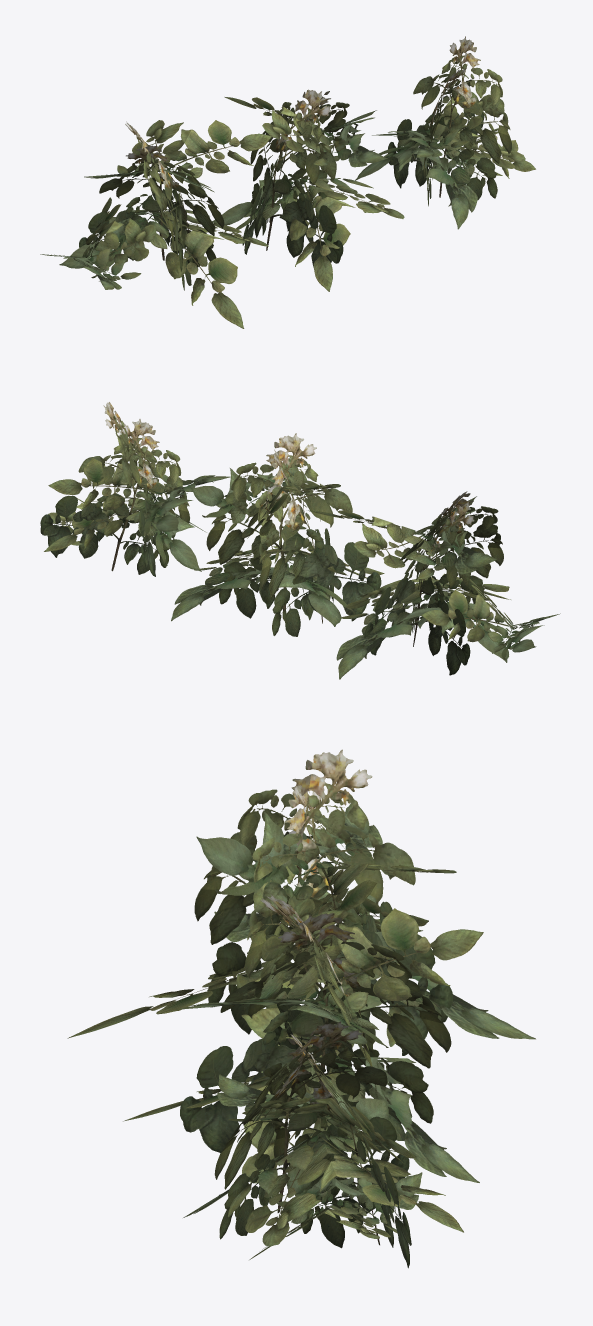
File: bg_anh_foliage_crops22_sm_ksy.FBX
The picture shows the model from 3 angles, top to bottom: view 1: azimuth 30°, elevation 25°; view 2: azimuth 150°, elevation 25°; view 3: azimuth 270°, elevation 25°; orthographic projection. The views are drawn at different scales.
Visible parts, largest first — view 1: bg_anh_foliage_crops22_sm_ksy; view 2: bg_anh_foliage_crops22_sm_ksy; view 3: bg_anh_foliage_crops22_sm_ksy.
Boxes of the visible parts, <box> form: bg_anh_foliage_crops22_sm_ksy: <box>40,36,535,328</box>; bg_anh_foliage_crops22_sm_ksy: <box>40,402,560,679</box>; bg_anh_foliage_crops22_sm_ksy: <box>67,749,535,1268</box>.
Bounding box in the file's own units: 179 × 62.2 × 102.
